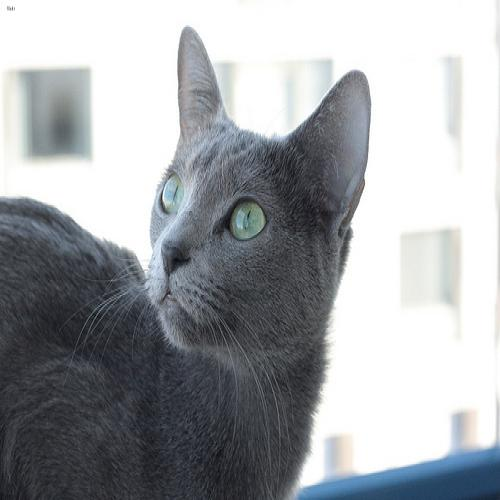rblue: (144, 7, 375, 379)
